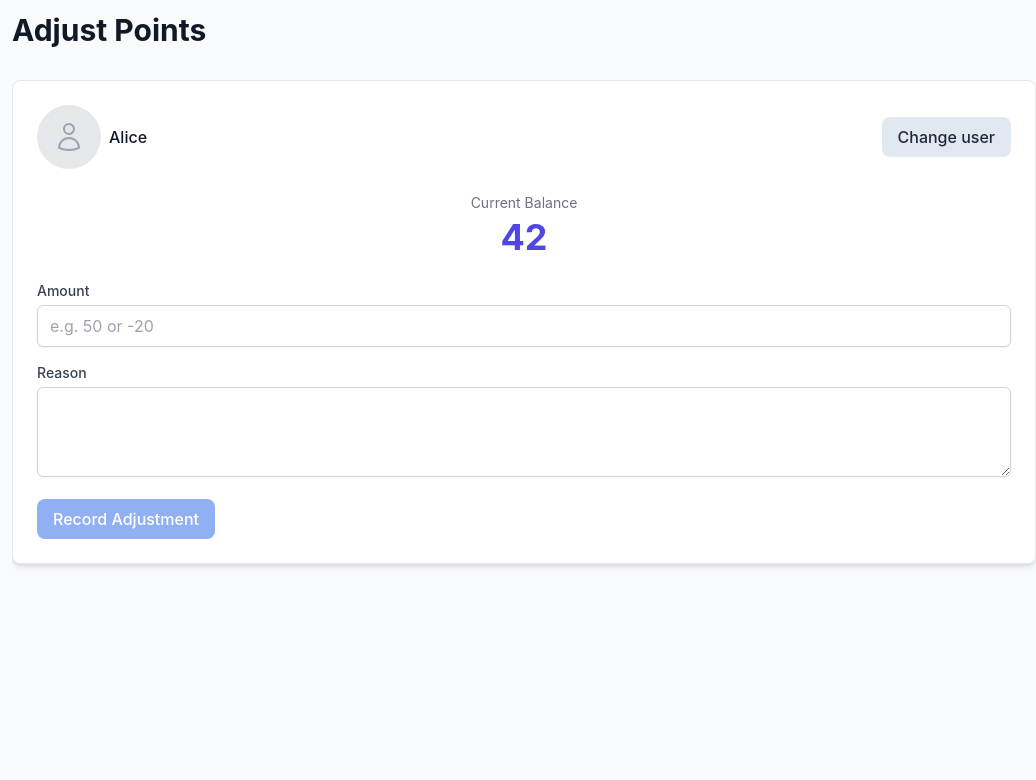
Scenario: AdminPointsAdjustment page › "Change user" clears the selection and returns to search
Expected: the text "42" is shown, [500,215,548,259]
Click the button "Change user". click: (946, 137)
box: [882,117,1011,157]
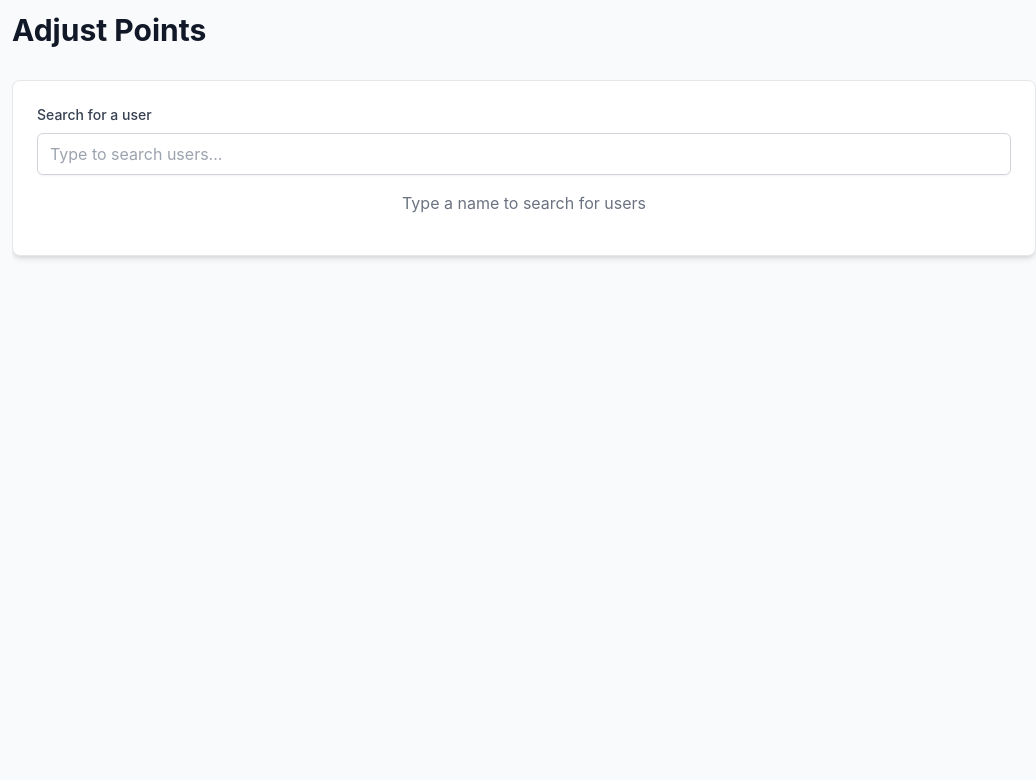
Now the field labelled "Search for a user" is shown, box [37,133,1011,175]
